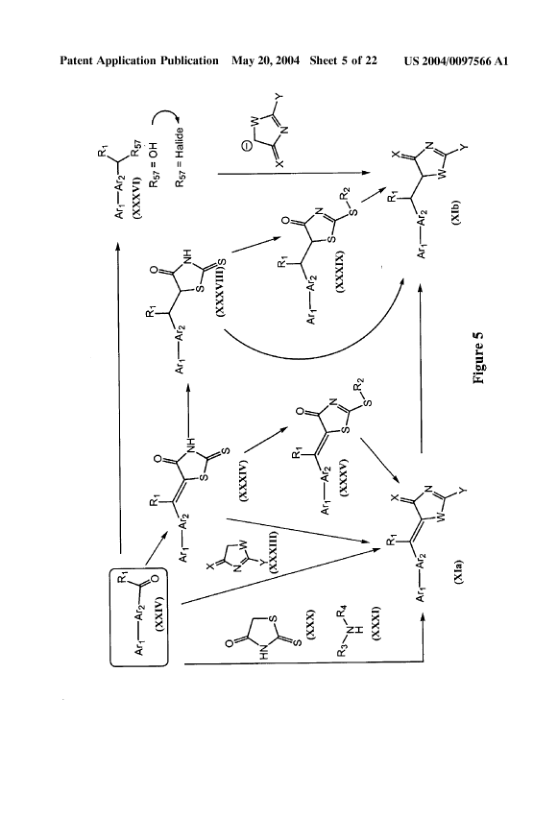compound-structure: (84, 95, 210, 225), (374, 127, 486, 263), (148, 425, 254, 566), (287, 377, 384, 527), (129, 239, 229, 377), (266, 185, 357, 331), (220, 599, 389, 662), (386, 483, 469, 608), (97, 564, 177, 668), (232, 80, 310, 168), (208, 513, 288, 574)
reaction: (53, 70, 488, 695)
reaction-arrow: (188, 611, 432, 684), (227, 272, 407, 366), (183, 545, 373, 604), (234, 510, 367, 550), (113, 236, 127, 553), (412, 274, 434, 459), (214, 158, 369, 184), (248, 413, 287, 475), (359, 438, 403, 487), (179, 382, 199, 436), (143, 532, 171, 564)
